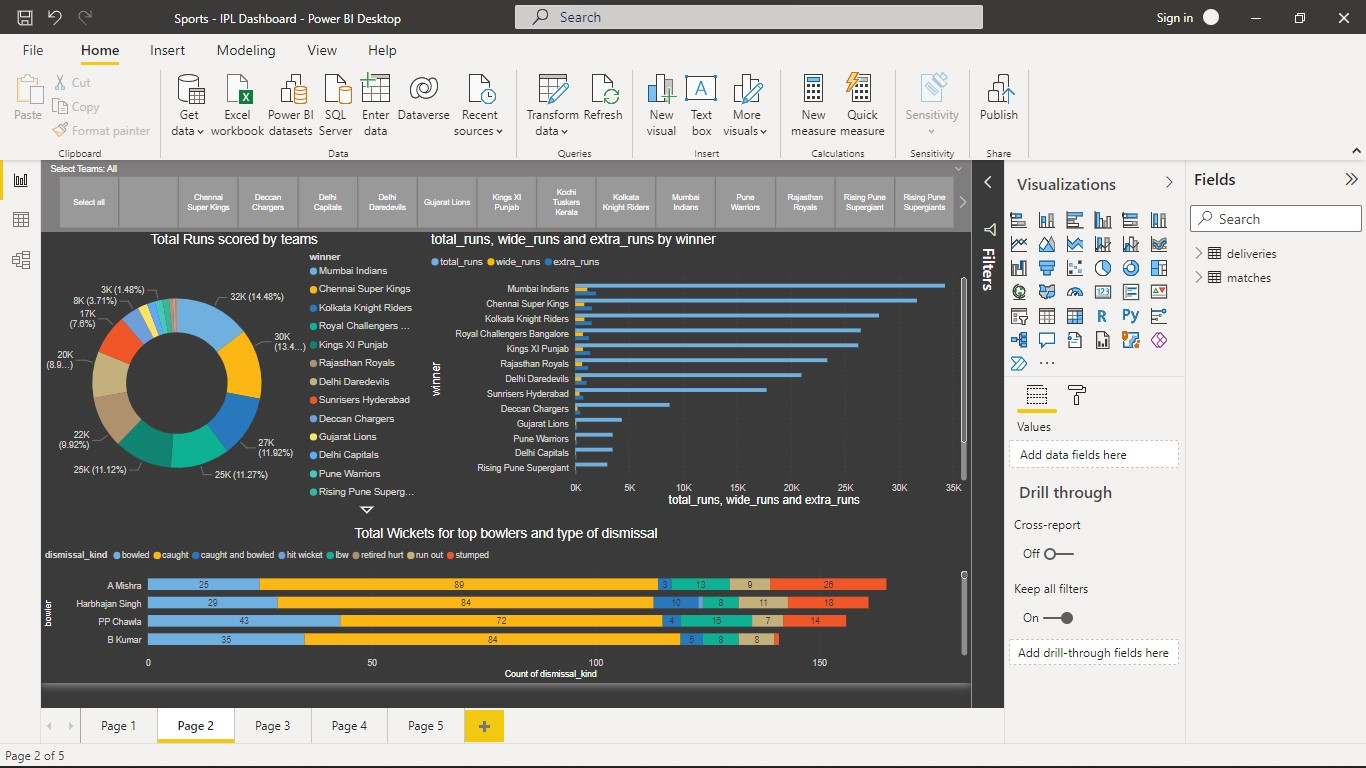

This screenshot's page, from the dashboard's own definition file:
{"tool":"powerbi","page":{"name":"Page 2","canvas":[1280,720],"ordinal":1},"visuals":[{"type":"slicer","fields":{"Values":["matches.winner"]},"box":[0,0,1279.8,99.6],"z":0},{"type":"donutChart","title":"Total Runs scored by teams","fields":{"Y":["deliveries.batsman_runs"],"Category":["matches.winner"]},"box":[0,99.4,531.1,394.8],"z":1000},{"type":"clusteredBarChart","fields":{"Y":["deliveries.total_runs","deliveries.wide_runs","deliveries.extra_runs"],"Category":["matches.winner"]},"box":[531.1,99.4,748.4,383.4],"z":2000},{"type":"barChart","title":"Total Wickets for top bowlers and type of dismissal","fields":{"Category":["deliveries.bowler"],"Series":["deliveries.dismissal_kind"],"Y":["deliveries.dismissal_kind"]},"box":[0,504.1,1279.5,215.9],"z":3000}]}

Visuals, with their boxes on the page's 1280x720 design canvas (x1, y1, x2, y2). These are canvas units, not pixel positions in the 1366x768 screenshot, which may show the page scaled, cropped or inside an application window:
slicer - matches.winner: (left=0, top=0, right=1280, bottom=100)
"Total Runs scored by teams" donutChart: (left=0, top=99, right=531, bottom=494)
clusteredBarChart - deliveries.total_runs x deliveries.wide_runs: (left=531, top=99, right=1280, bottom=483)
"Total Wickets for top bowlers and type of dismissal" barChart: (left=0, top=504, right=1280, bottom=720)
